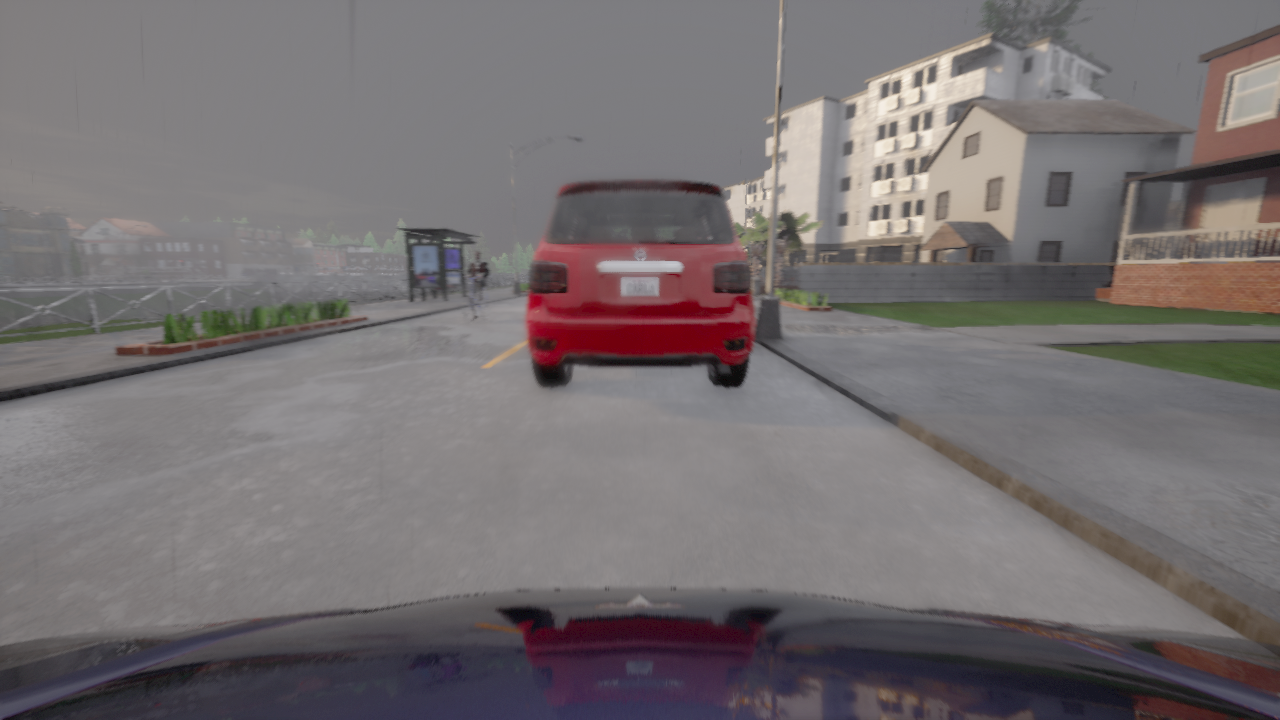cyclist: (0, 588, 1279, 719), (526, 180, 753, 387), (464, 276, 488, 324)
